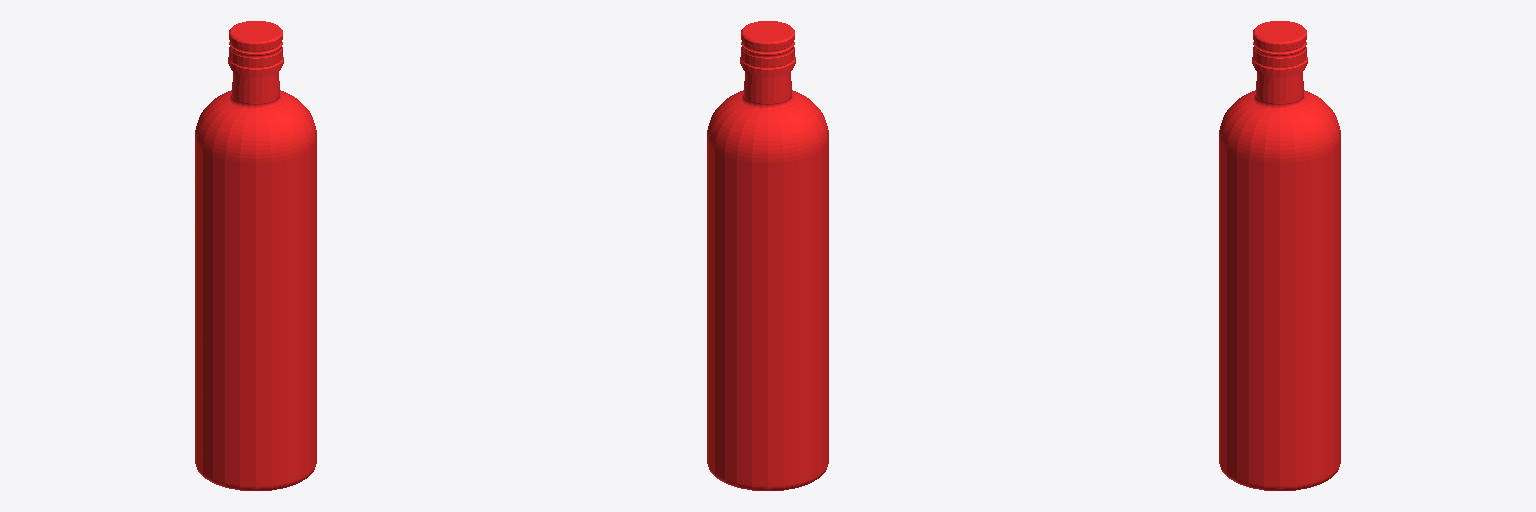
robot.urdf — bottle:
<?xml version="0.0" ?>
<robot name="bottle">
    <link concave="yes" name="base_link">
        <!-- <contact>
            <lateral_friction value="3.0"/>
            <rolling_friction value="3.0"/>
            <spinning_friction value="3.0"/>
        </contact> -->
        <inertial>
            <origin xyz="0 0 0.03"/>
            <mass value="1"/>
            <inertia ixx="1" ixy="0" ixz="0" iyy="1" iyz="0" izz="1"/>
        </inertial>
        <visual>
            <origin xyz="0.0 -0.0  0"/>
            <geometry>
                <mesh filename="bottle.obj" scale="0.016 0.016 0.016 "/>
            </geometry>
      <material name="bottle">
        <color rgba="1.0 0.2 0.2 1"/>
        <specular rgb="1 1 1"/>
      </material>
        </visual>
        <collision concave="yes">
            <origin xyz="0.0 -0.0 0"/>
            <geometry>
                <mesh filename="bottle.obj" scale="0.016 0.016 0.016 "/>
            </geometry>
        </collision>
    </link>
</robot>

--- Facts derived from the render (not from the file) ---
Views: 3 orthographic renders of the robot side by side, from view 1: azimuth 30°, elevation 25°; view 2: azimuth 150°, elevation 25°; view 3: azimuth 270°, elevation 25°.
Robot: bottle — 1 links, 0 joints (none); root link base_link; default pose: every joint at zero.
Links seen in each view (by area): view 1: base_link; view 2: base_link; view 3: base_link.
Boxes of the visible links, bbox=[...] form: base_link: bbox=[195, 21, 316, 490]; base_link: bbox=[707, 21, 828, 490]; base_link: bbox=[1219, 21, 1340, 490].
Bounding box of the posed robot: 0.0437 × 0.0437 × 0.1722 m (x, y, z).
1 mesh visuals loaded from 1 distinct referenced files (1 OBJ).